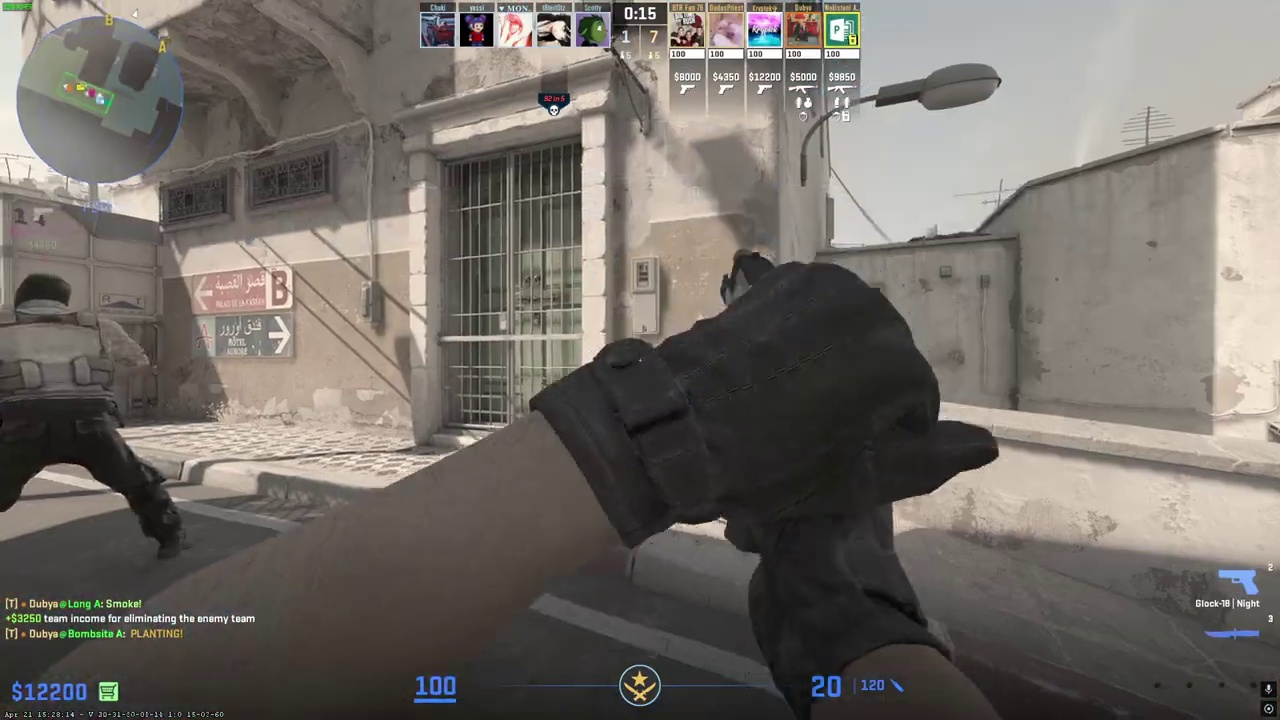Terrorist: (1, 272, 174, 560)
